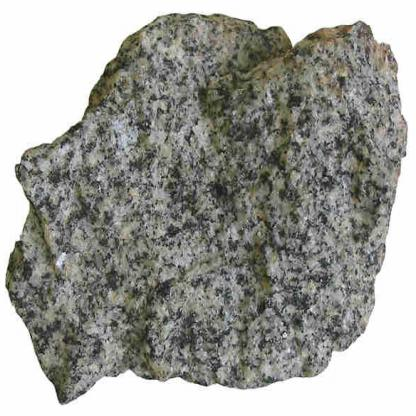Igneous_Diorite: (0, 8, 408, 406)
